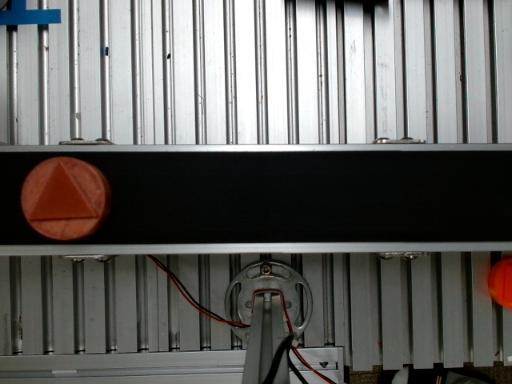Brown_Waper: (21, 157, 110, 239)
Not_Square: (27, 157, 101, 222)
